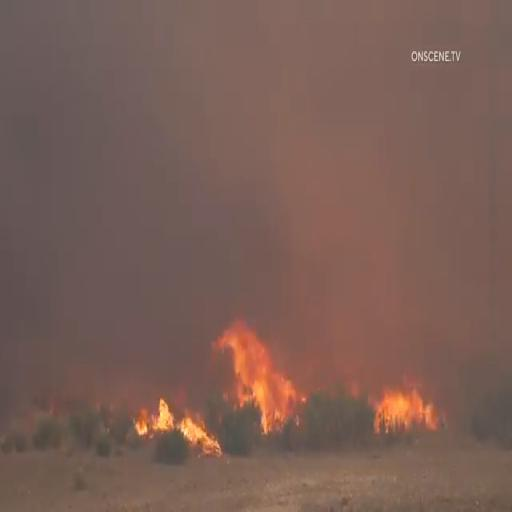fire: (200, 312, 363, 440), (123, 355, 220, 467), (377, 336, 437, 448)
smoke: (0, 4, 197, 271), (204, 8, 394, 239)
